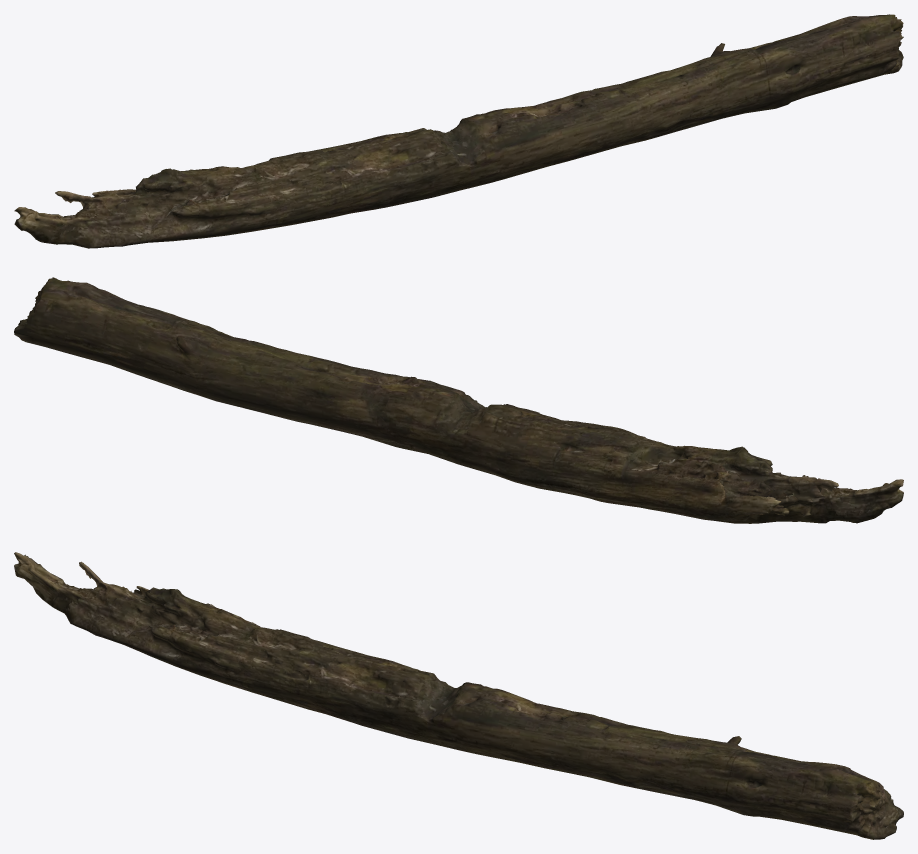
Rendered from dead_tree_trunk.glb.
3 views of the same model, one above another, from view 1: azimuth 30°, elevation 25°; view 2: azimuth 150°, elevation 25°; view 3: azimuth 330°, elevation 25° (orthographic).
Visible parts, largest first — view 1: dead_tree_trunk; view 2: dead_tree_trunk; view 3: dead_tree_trunk.
Boxes of the visible parts, <box> form: dead_tree_trunk: <box>14,14,903,248</box>; dead_tree_trunk: <box>14,277,903,523</box>; dead_tree_trunk: <box>14,552,903,839</box>.
Bounding box in the file's own units: 3.05 × 0.2898 × 0.2775.
Materials: 1 (1 with a texture image).
